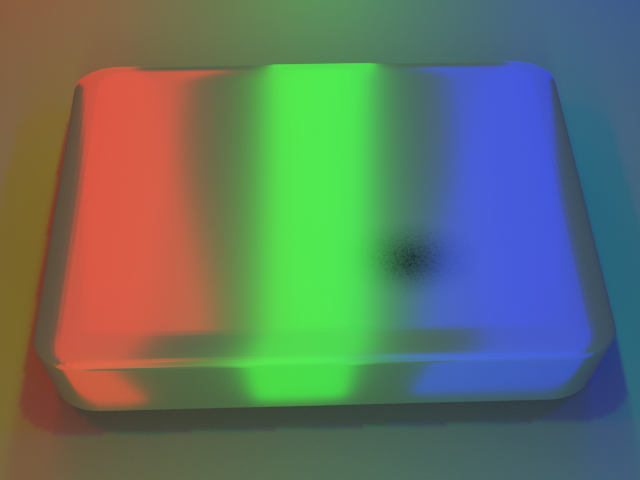stain: (309, 199, 558, 348)
